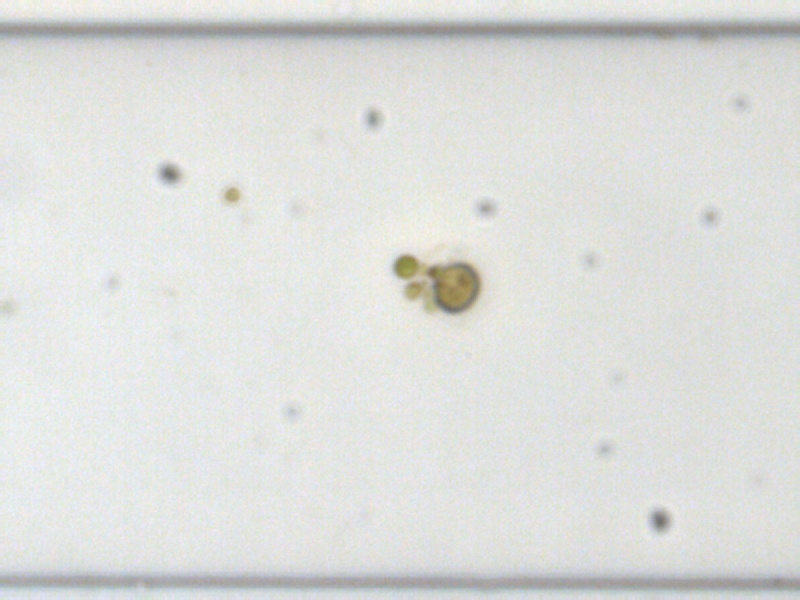Chlorella: (391, 252, 418, 280), (403, 279, 422, 302), (222, 185, 239, 201)
Effrenium: (430, 260, 480, 315)
